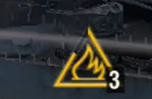3fire: (50, 51, 126, 94)
